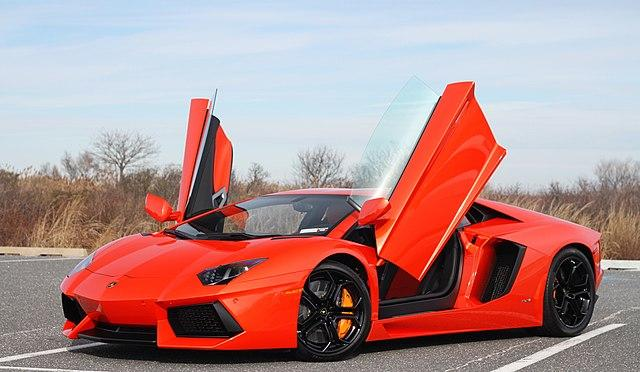lamborghini: (60, 74, 604, 360)
